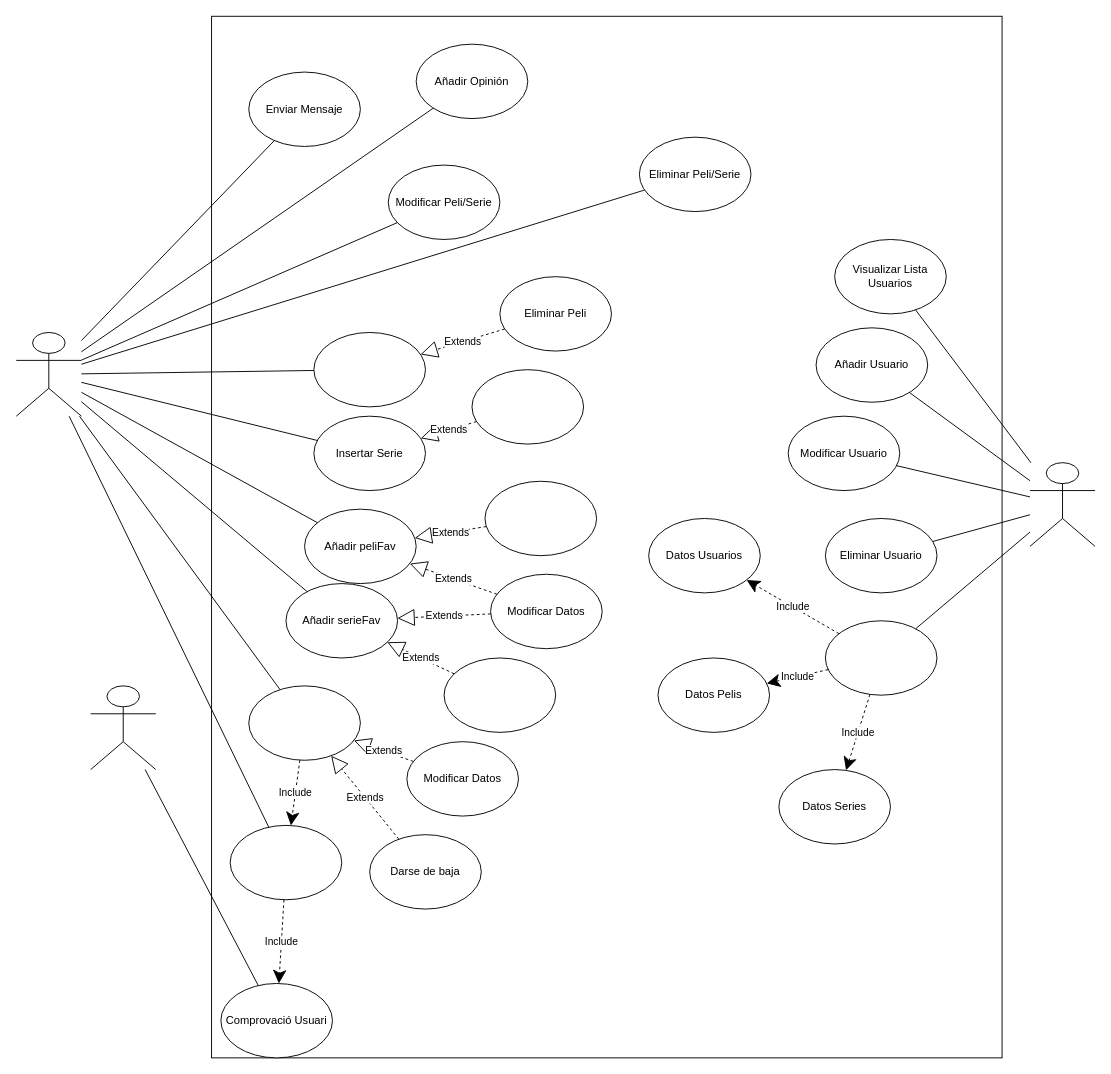
The diagram is 1111 pixels wide and 1074 high, and some of its shapes have lost their labels. Here are the shapes that lost their labels. From the top down, the centre of each, then its label:
At pixel 48 374: "Usuari".
At pixel 369 369: "Insertar Peli".
At pixel 527 406: "Eliminar Serie".
At pixel 540 518: "Eliminar peliFav".
At pixel 1062 504: "Admin".
At pixel 880 657: "Backup".
At pixel 499 694: "Eliminars serieFav".
At pixel 123 727: "BaseDatos".
At pixel 304 722: "Loguearse".
At pixel 285 862: "Registrarse".
